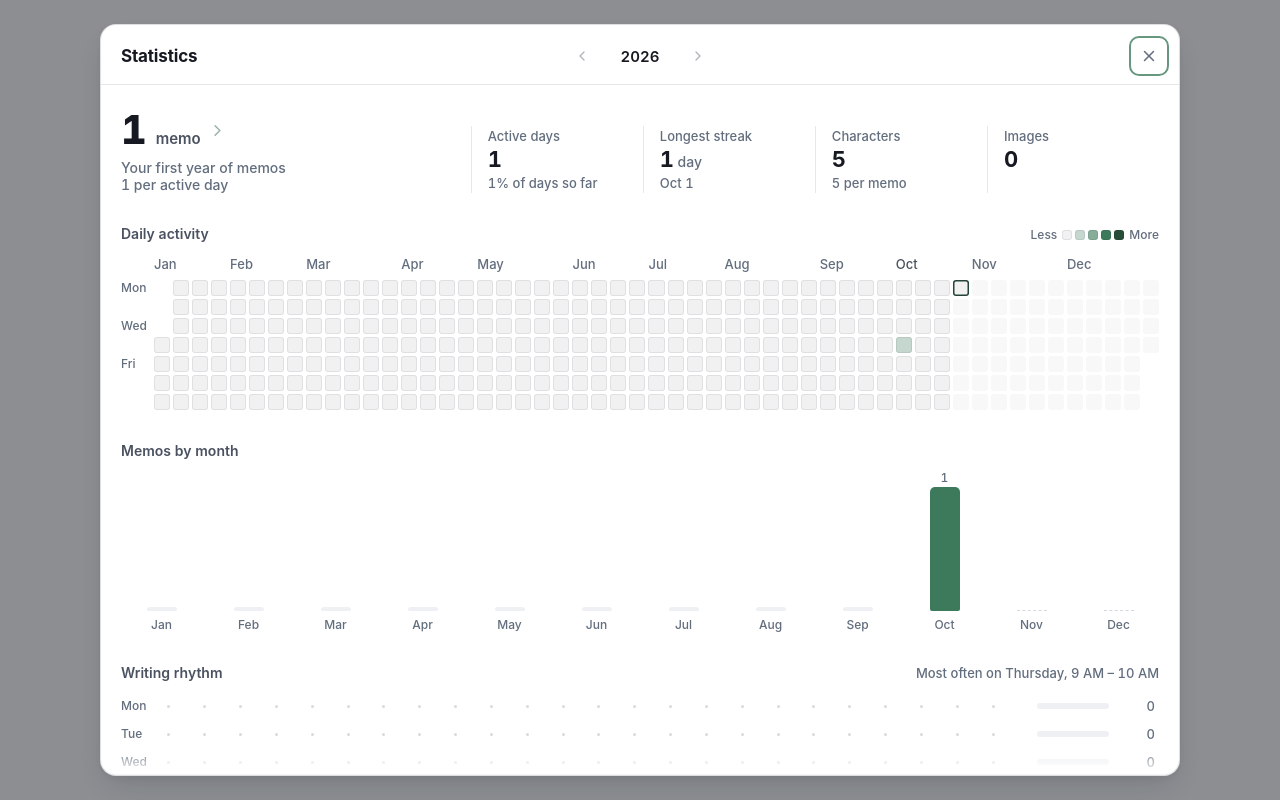
statistics on touch › picks a day on the first tap, pins its tip and offers the drill in the section head
This screenshot has width=1280, height=800.
Click the button named "Show 1 memo from Oct 1, 2026". click: click(904, 345)
box: [896,337,912,353]
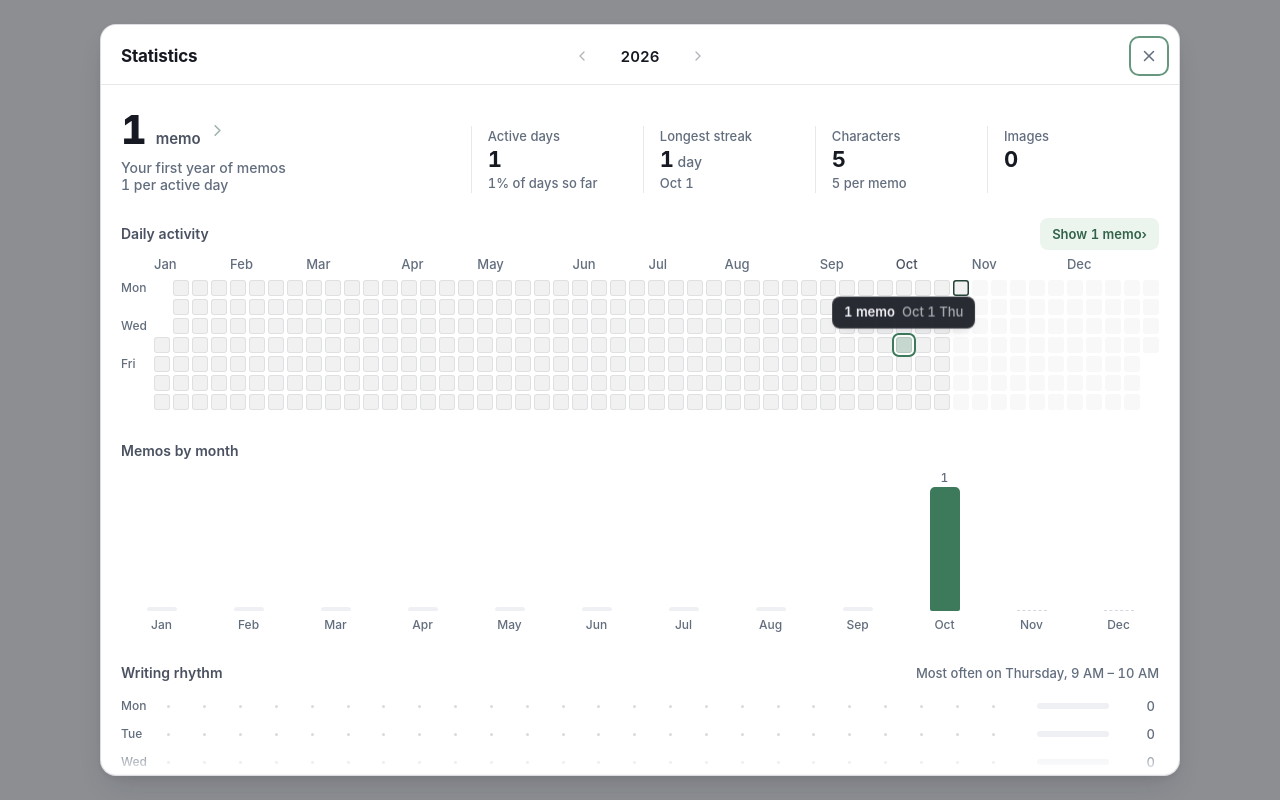
Check: the button with class "stats-pick-pill" reads "Show 1 memo ›", box [1040,218,1159,250]
Check: the element with class "heat-legend" is gone
Check: the element with class "tip" shows "1 memo", box [844,304,895,320]
